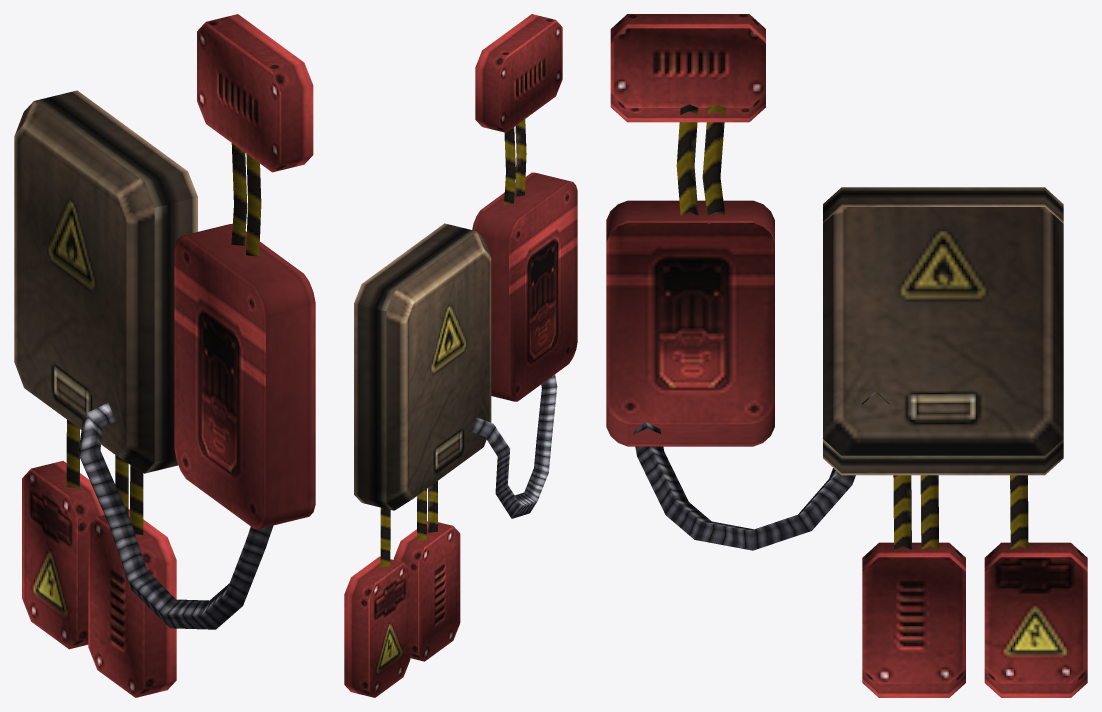
File: mprw_powerbox.FBX
The picture shows the model from 3 angles, left to right: view 1: azimuth 30°, elevation 25°; view 2: azimuth 150°, elevation 25°; view 3: azimuth 270°, elevation 25°; orthographic projection. The views are drawn at different scales.
Parts seen in each view (by area): view 1: mprw_powerbox; view 2: mprw_powerbox; view 3: mprw_powerbox.
Part boxes in pixels (x1,y1,x2,y2): mprw_powerbox: (14, 14, 315, 697); mprw_powerbox: (344, 14, 577, 697); mprw_powerbox: (606, 14, 1087, 697).
Bounding box in the file's own units: 41.12 × 293 × 191.
Materials: 1 (1 with a texture image).
